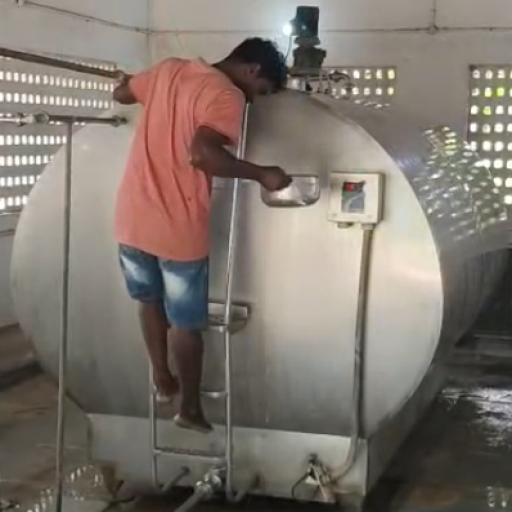silo: (11, 76, 509, 502)
vessel: (259, 174, 321, 209)
